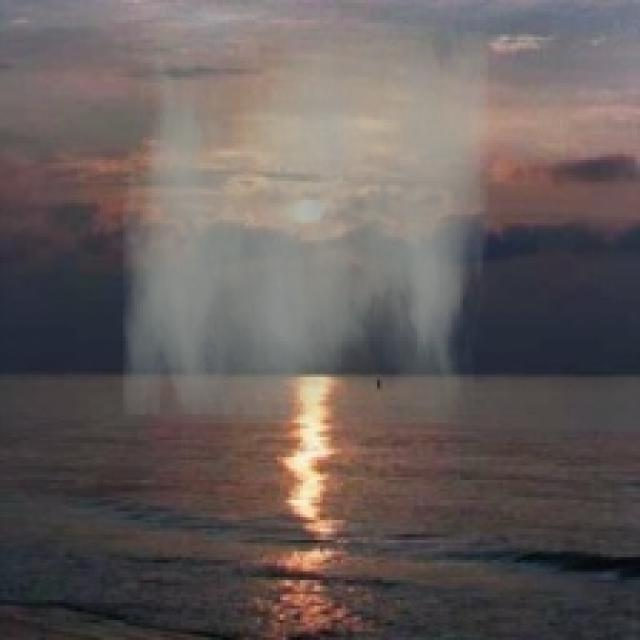Smoke: (122, 26, 488, 423)
